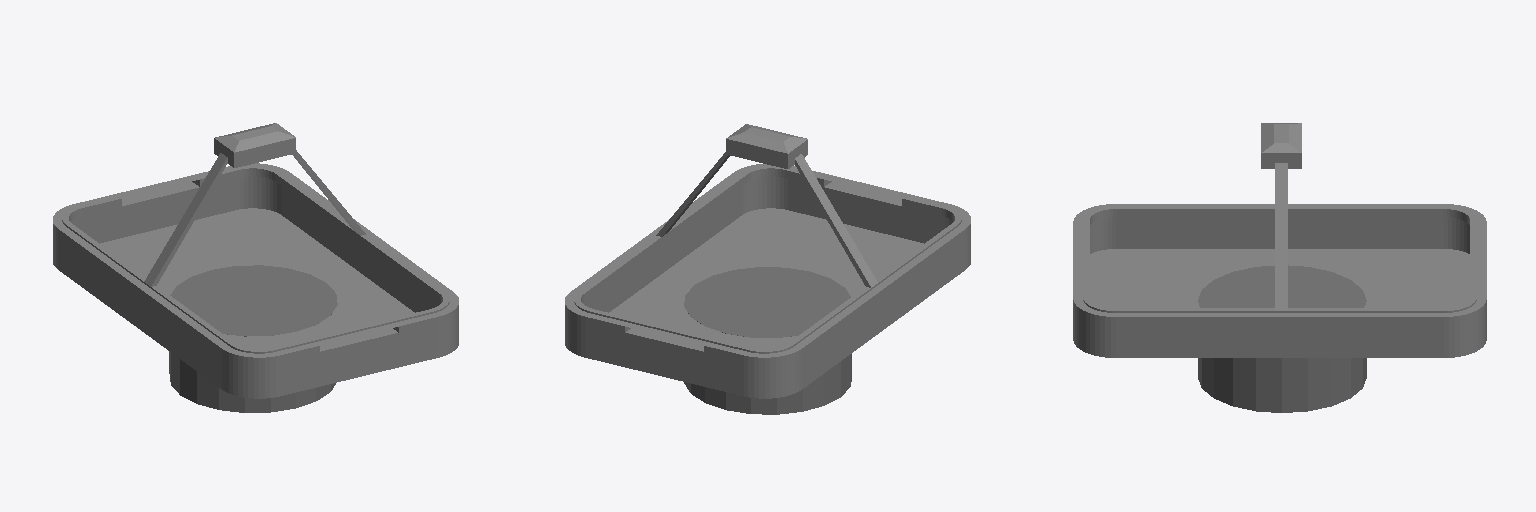
Rendered from Table.obj.
The picture shows the model from 3 angles: view 1: azimuth 30°, elevation 25°; view 2: azimuth 150°, elevation 25°; view 3: azimuth 270°, elevation 25°; orthographic projection.
Parts seen in each view (by area): view 1: table_clean_hiden[number redacted]:Mesh1 table_clean_hiden[number redacted]:Model , pernas; view 2: table_clean_hiden[number redacted]:Mesh1 table_clean_hiden[number redacted]:Model , pernas; view 3: table_clean_hiden[number redacted]:Mesh1 table_clean_hiden[number redacted]:Model , pernas.
Part boxes in pixels (left/top/right/bottom): table_clean_hiden[number redacted]:Mesh1 table_clean_hiden[number redacted]:Model : left=53, top=123, right=458, bottom=398; pernas: left=169, top=265, right=337, bottom=412; table_clean_hiden[number redacted]:Mesh1 table_clean_hiden[number redacted]:Model : left=565, top=124, right=970, bottom=398; pernas: left=684, top=267, right=851, bottom=414; table_clean_hiden[number redacted]:Mesh1 table_clean_hiden[number redacted]:Model : left=1073, top=123, right=1486, bottom=357; pernas: left=1198, top=265, right=1366, bottom=412.
Bounding box in the file's own units: 2.06 × 2.07 × 3.17.